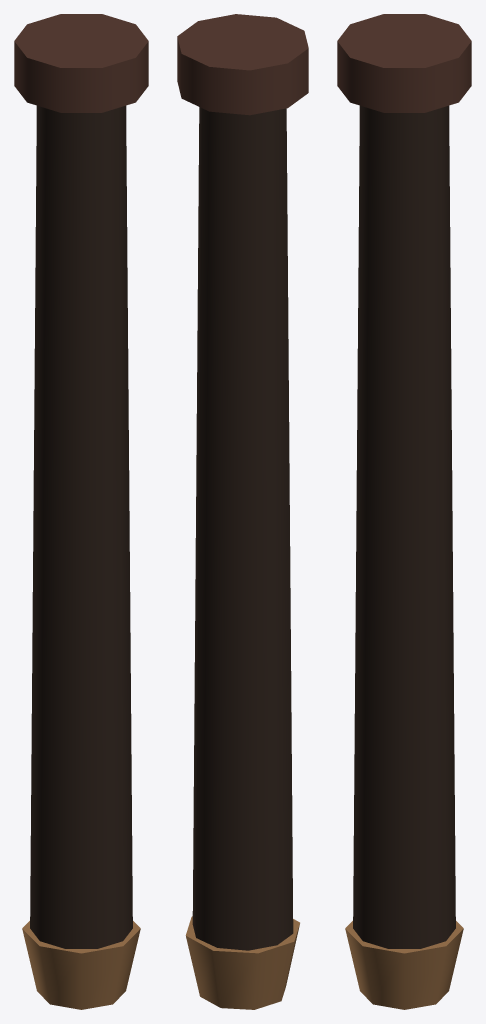
The model's file is blowgun.glb.
3 views of the same model, side by side, from view 1: azimuth 90°, elevation 25°; view 2: azimuth 150°, elevation 25°; view 3: azimuth 270°, elevation 25° (orthographic).
Visible parts, largest first — view 1: blowgun-tube, blowgun-muzzle-ring, blowgun-mouthpiece; view 2: blowgun-tube, blowgun-muzzle-ring, blowgun-mouthpiece; view 3: blowgun-tube, blowgun-muzzle-ring, blowgun-mouthpiece.
Part boxes in pixels (x1,y1,x2,y2): blowgun-tube: (30,105,132,948); blowgun-muzzle-ring: (14,14,148,112); blowgun-mouthpiece: (22,921,140,1009); blowgun-tube: (192,107,293,950); blowgun-muzzle-ring: (177,14,308,115); blowgun-mouthpiece: (185,916,299,1009); blowgun-tube: (353,105,455,948); blowgun-muzzle-ring: (337,14,471,112); blowgun-mouthpiece: (345,921,463,1009).
Size of the model in its own units: 0.1293 by 1.06 by 0.136.
